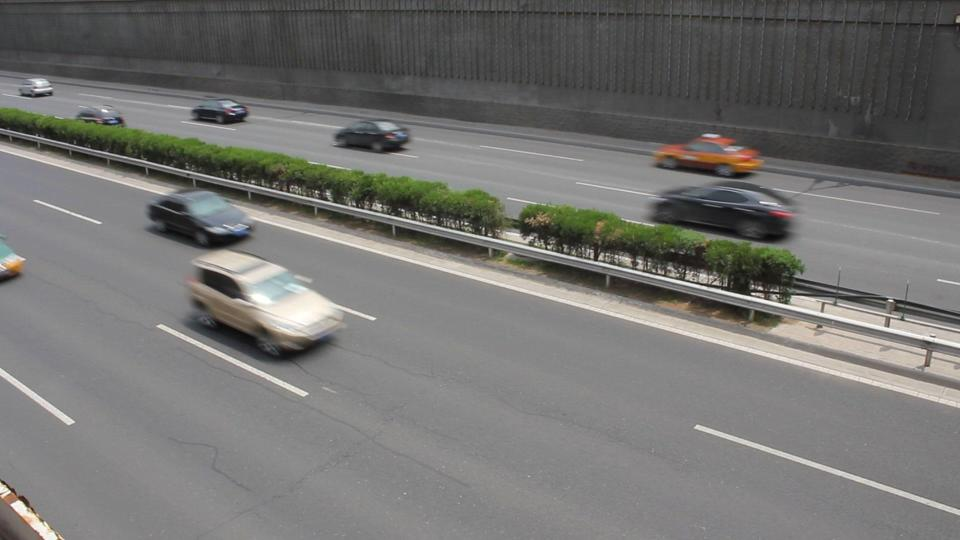car: (183, 248, 353, 357), (643, 185, 799, 241), (146, 189, 255, 246), (651, 136, 763, 176), (333, 121, 414, 153), (189, 98, 251, 124), (0, 237, 29, 288), (11, 75, 56, 98), (74, 106, 124, 125)
